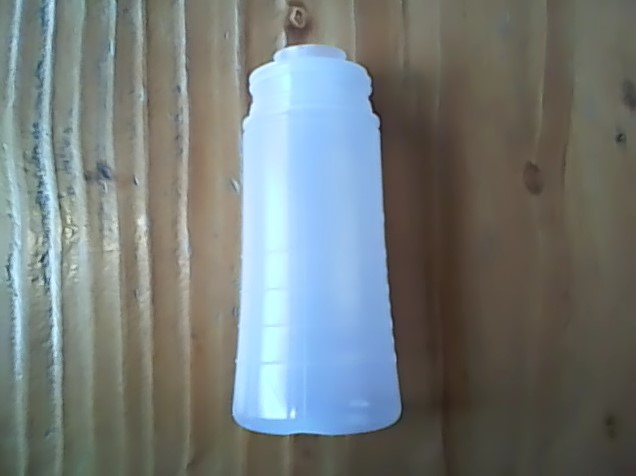Plastic: (222, 35, 411, 441)
